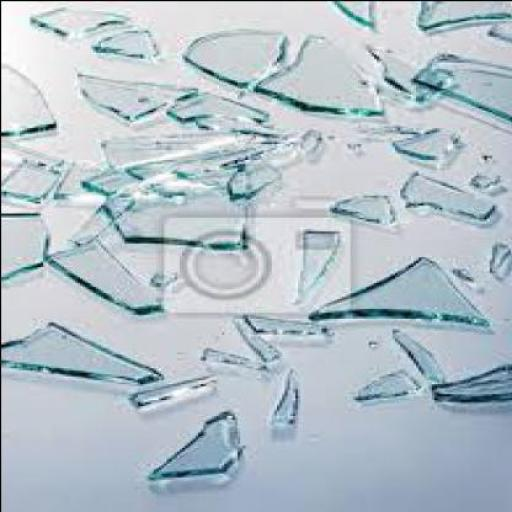glass: (323, 250, 486, 326), (257, 30, 389, 110), (2, 314, 162, 379), (110, 176, 252, 242), (55, 236, 163, 310), (147, 403, 244, 481), (131, 133, 265, 188), (415, 52, 511, 118), (186, 20, 294, 78), (70, 72, 195, 120), (105, 127, 229, 167), (372, 42, 442, 107), (402, 169, 499, 214), (289, 222, 352, 290), (2, 58, 56, 136), (378, 327, 447, 383), (431, 360, 511, 404), (74, 188, 134, 246), (214, 151, 284, 196), (2, 210, 48, 276), (2, 155, 66, 201), (328, 184, 394, 226), (420, 1, 510, 31), (31, 8, 131, 34), (184, 87, 260, 121), (247, 306, 333, 335), (132, 368, 220, 394), (404, 125, 465, 161), (352, 369, 420, 401), (270, 362, 307, 420), (236, 314, 281, 359), (197, 344, 268, 370), (94, 160, 150, 192), (102, 28, 160, 56), (2, 135, 56, 164), (224, 115, 282, 139), (262, 131, 300, 167), (332, 1, 379, 20), (304, 126, 326, 152), (467, 166, 502, 181), (491, 11, 511, 37), (491, 240, 507, 265), (452, 261, 472, 274)
